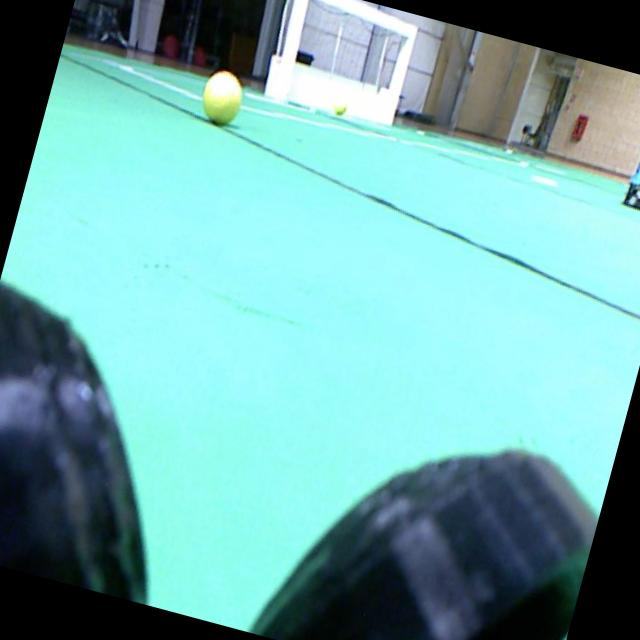ball: (202, 70, 241, 123), (333, 100, 347, 115)
goal: (271, 0, 309, 100), (381, 23, 418, 124)
